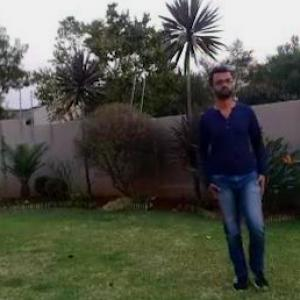follow: (194, 58, 278, 299)
